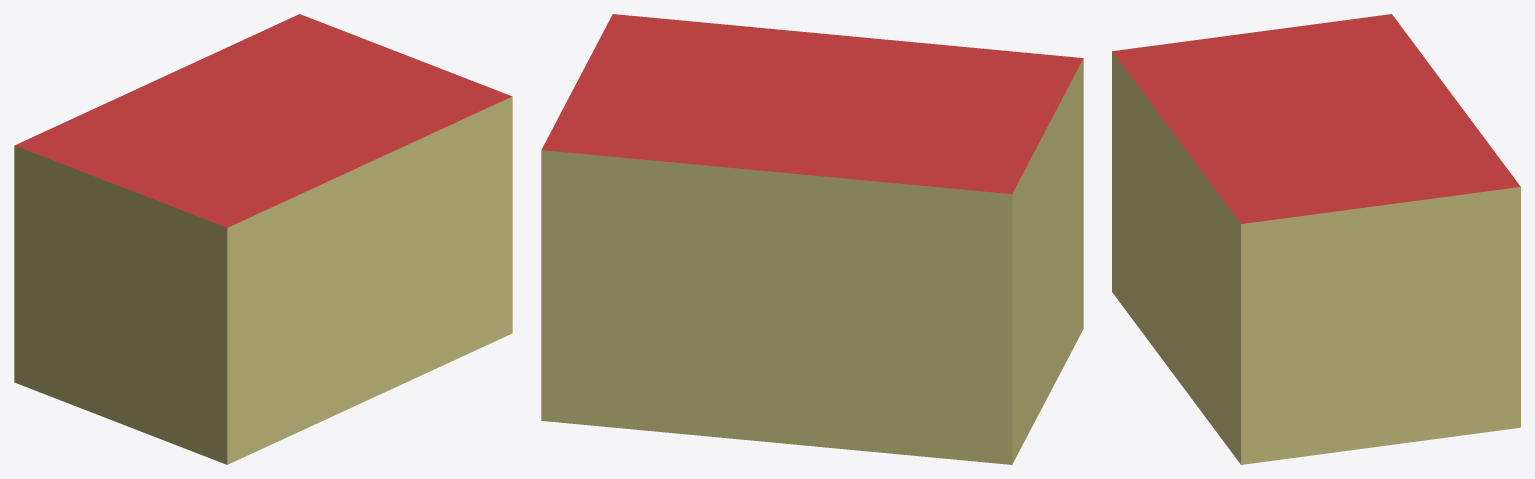
The picture shows the model from 3 angles, left to right: view 1: azimuth 30°, elevation 25°; view 2: azimuth 150°, elevation 25°; view 3: azimuth 270°, elevation 25°; orthographic projection. The views are drawn at different scales.
Bounding box in the file's own units: 9.94 × 8.17 × 5.31.
